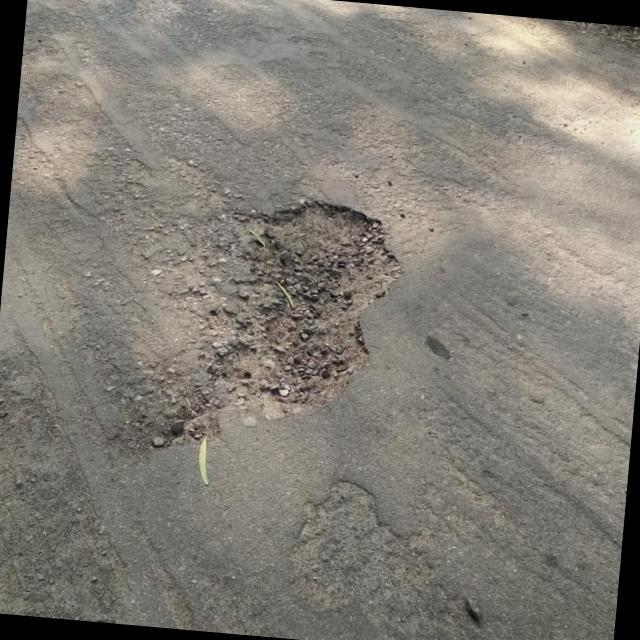Lubang: (201, 201, 398, 411)
